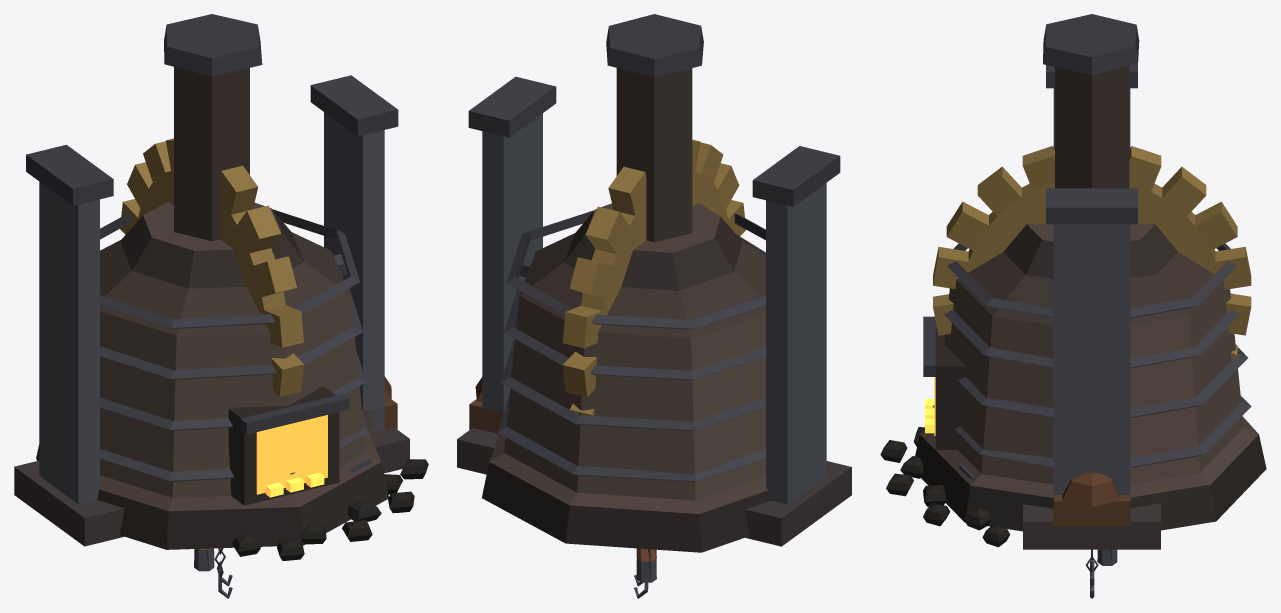
Rendered from forge.glb.
The picture shows the model from 3 angles, left to right: view 1: azimuth 30°, elevation 25°; view 2: azimuth 150°, elevation 25°; view 3: azimuth 270°, elevation 25°; orthographic projection. The views are drawn at different scales.
Visible parts, largest first — view 1: forge_furnace_a, forge_great_gear_a; view 2: forge_furnace_a, forge_great_gear_a, forge_pipe_bend_b; view 3: forge_furnace_a, forge_great_gear_a.
Boxes of the visible parts, x1,y1,x2,y2 form: forge_furnace_a: (36, 14, 428, 560); forge_great_gear_a: (14, 75, 409, 546); forge_furnace_a: (469, 14, 770, 552); forge_great_gear_a: (457, 76, 851, 546); forge_pipe_bend_b: (636, 548, 656, 582); forge_furnace_a: (880, 14, 1266, 547); forge_great_gear_a: (933, 63, 1251, 549).
Bounding box in the file's own units: 2.52 × 4 × 2.52.
